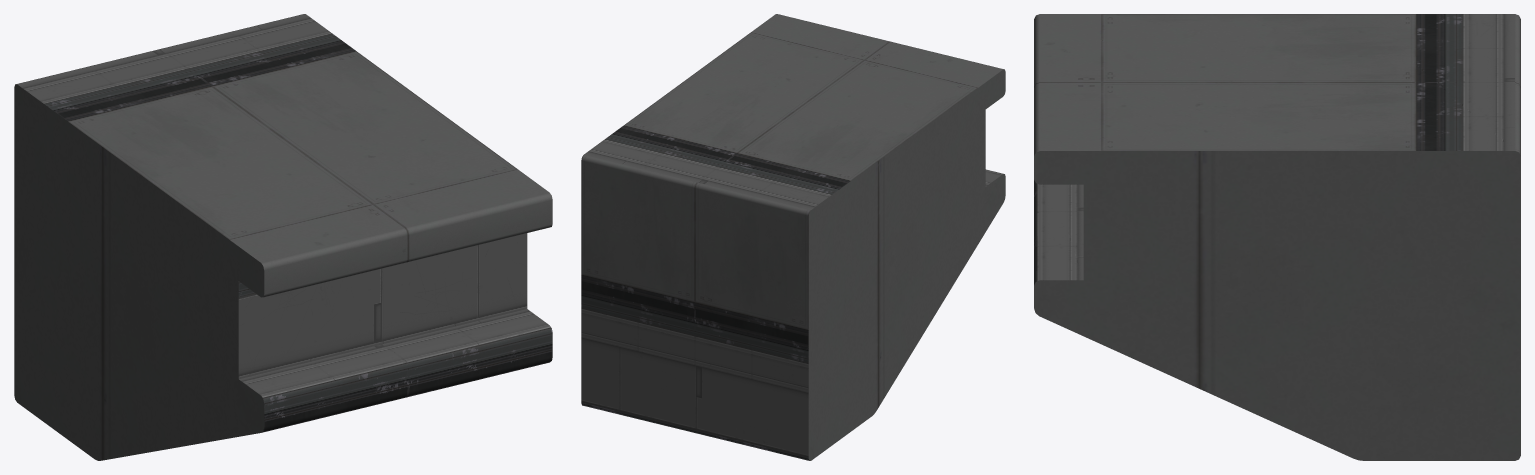
File: Stairs_ceiling1_half.fbx
3 renders of one model, left to right at view 1: azimuth 30°, elevation 25°; view 2: azimuth 150°, elevation 25°; view 3: azimuth 270°, elevation 25°, orthographic. The views are drawn at different scales.
Visible parts, largest first — view 1: pCube18; view 2: pCube18; view 3: pCube18.
Part boxes in pixels (x1,y1,x2,y2): pCube18: (14, 14, 552, 460); pCube18: (581, 14, 1005, 460); pCube18: (1034, 14, 1520, 460).
Bounding box in the file's own units: 200 × 211 × 300.
